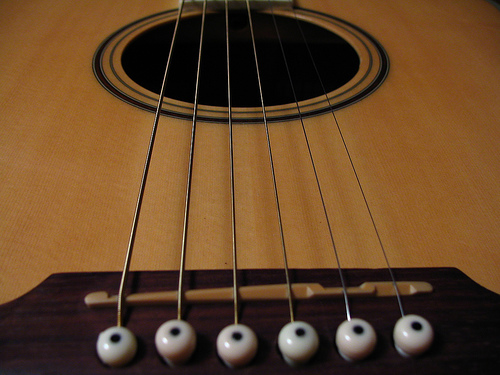guitar: (1, 1, 499, 375)
